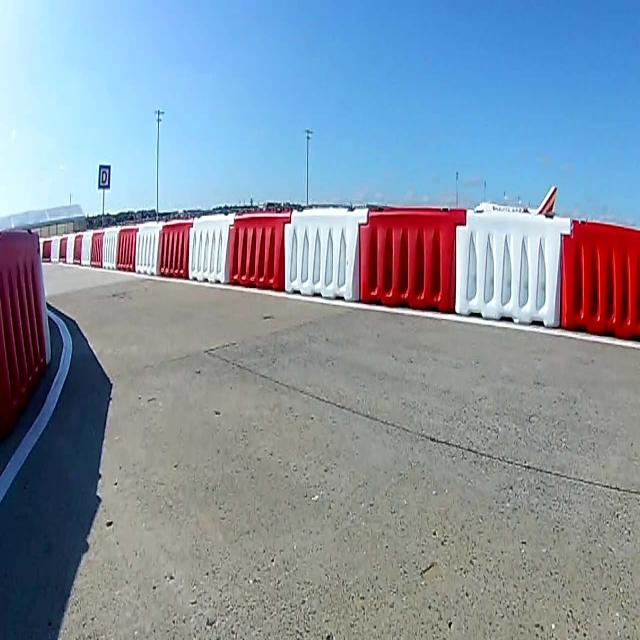durak: (98, 164, 110, 189)
